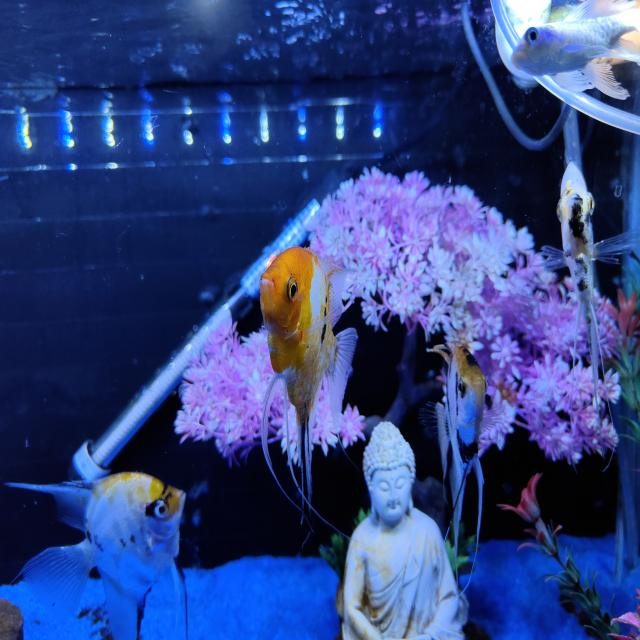Fish: (7, 473, 186, 639), (260, 247, 357, 507), (541, 162, 639, 408), (420, 344, 487, 557), (512, 0, 639, 99)
